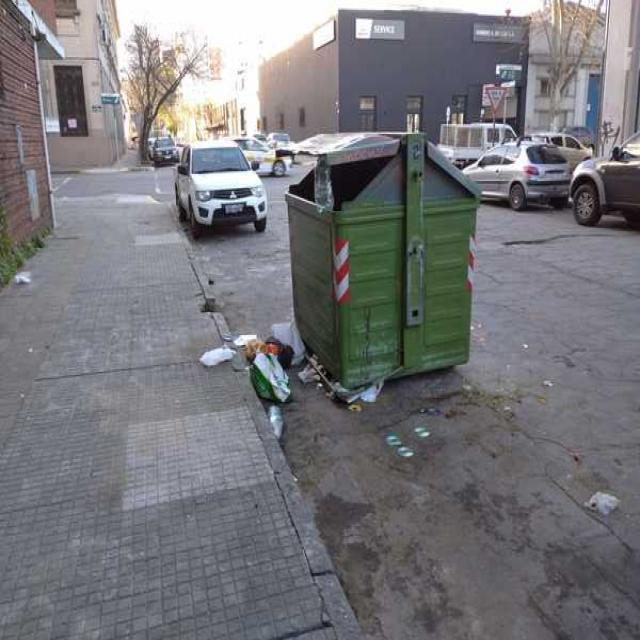garbage: (200, 308, 322, 442), (580, 478, 624, 530), (303, 153, 336, 220), (383, 422, 435, 460), (330, 379, 388, 409), (4, 265, 34, 290)
